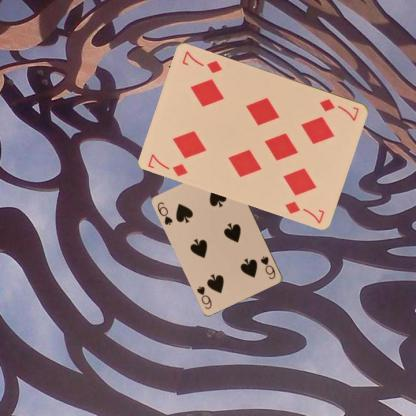6s: (258, 254, 277, 281), (155, 199, 174, 226)
7d: (317, 96, 361, 122), (146, 151, 190, 177)
